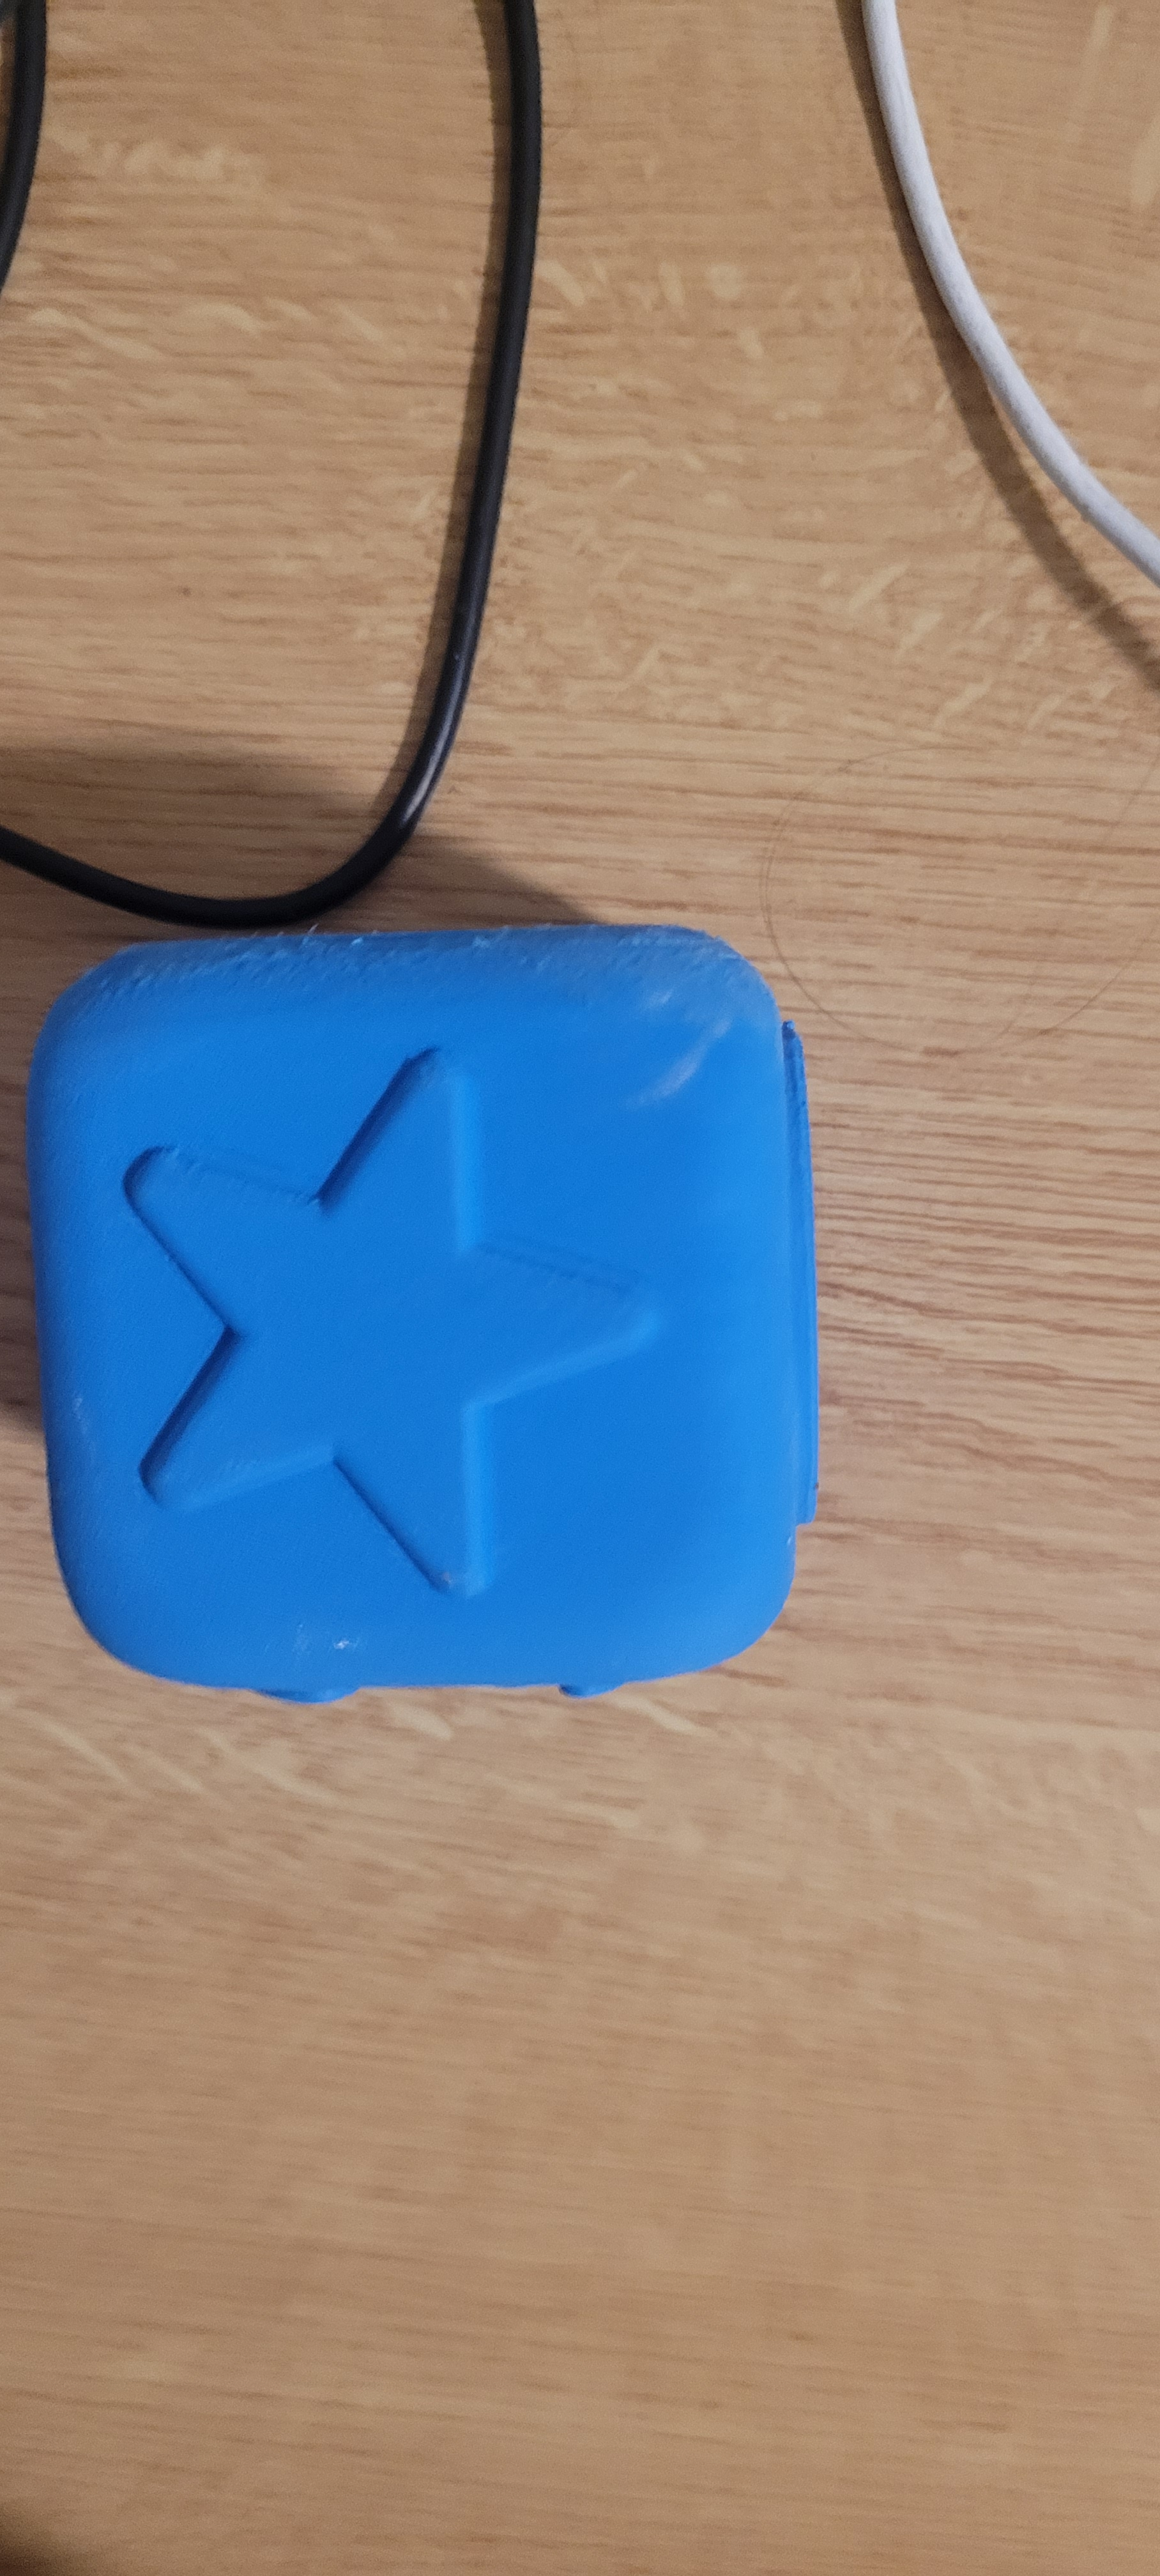Star: (82, 1027, 705, 1607)
